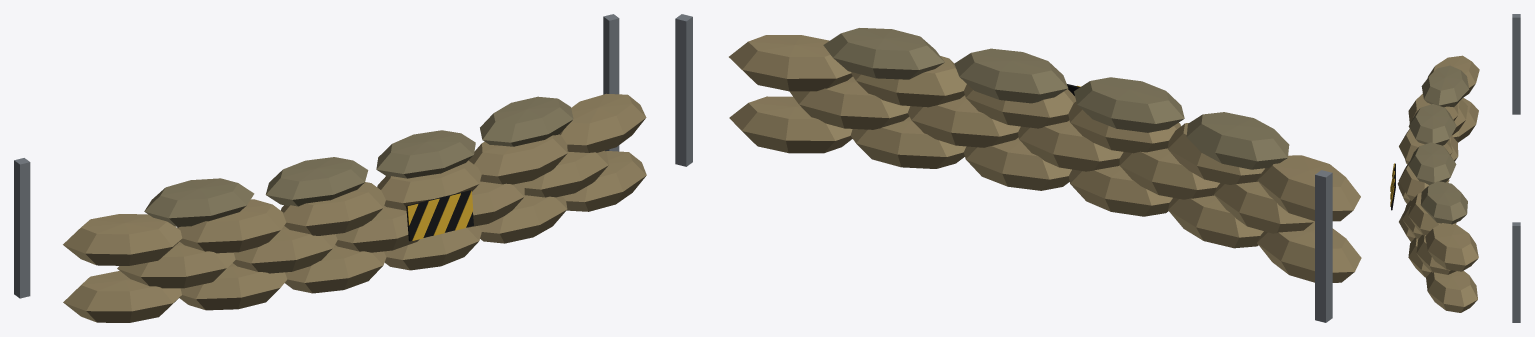
File: env_sandbags.fbx
The picture shows the model from 3 angles, left to right: view 1: azimuth 30°, elevation 25°; view 2: azimuth 150°, elevation 25°; view 3: azimuth 270°, elevation 25°; orthographic projection. The views are drawn at different scales.
Parts seen in each view (by area): view 1: Bags; view 2: Bags; view 3: Bags.
Boxes of the visible parts, x1=… form: Bags: x1=14, y1=14, x2=646, y2=322; Bags: x1=675, y1=14, x2=1361, y2=322; Bags: x1=1390, y1=14, x2=1520, y2=322.
Bounding box in the file's own units: 9.36 × 2 × 2.44.
1 material, 1 textured.
